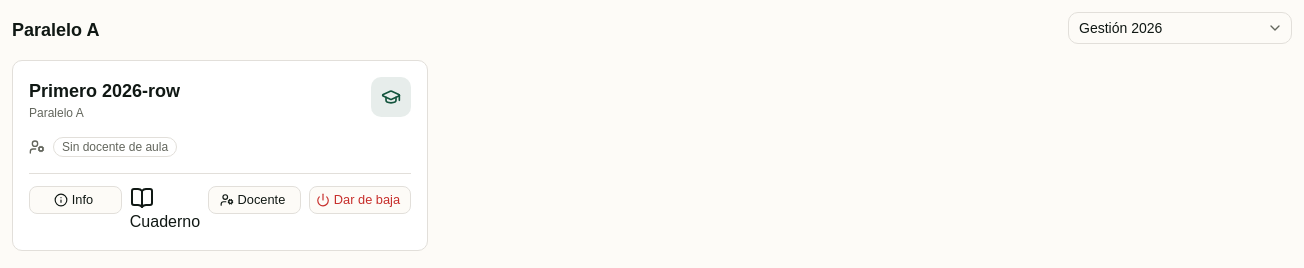
ParallelCoursesPage › says the year has no courses when the fetch succeeded empty
Click the dropdown at [1180, 28], box top-left (1068, 12), bottom-right (1292, 44)
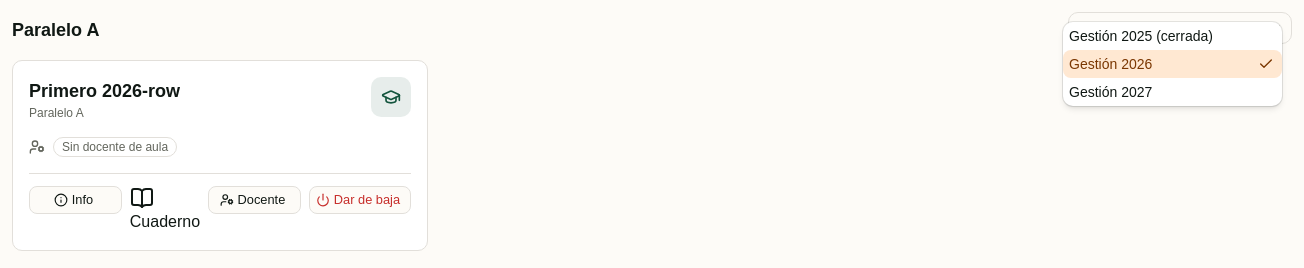
Click the option "Gestión 2025 (cerrada)" at [1141, 36], box top-left (1069, 28), bottom-right (1213, 44)
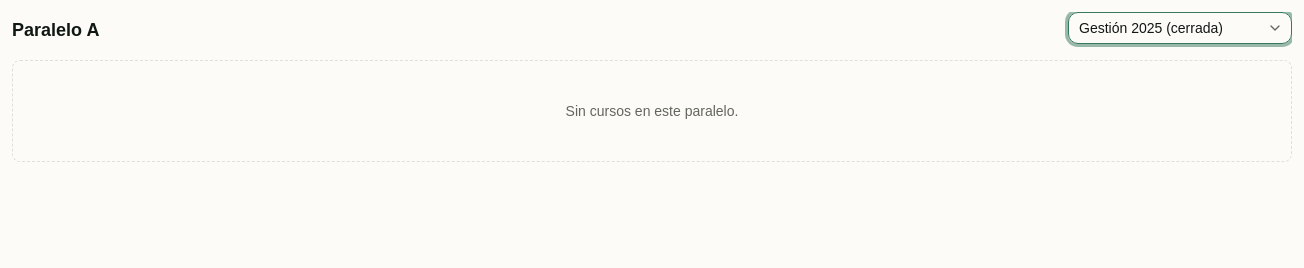
Check: the text "Sin cursos en este paralelo." is shown, box top-left (12, 60), bottom-right (1292, 162)
